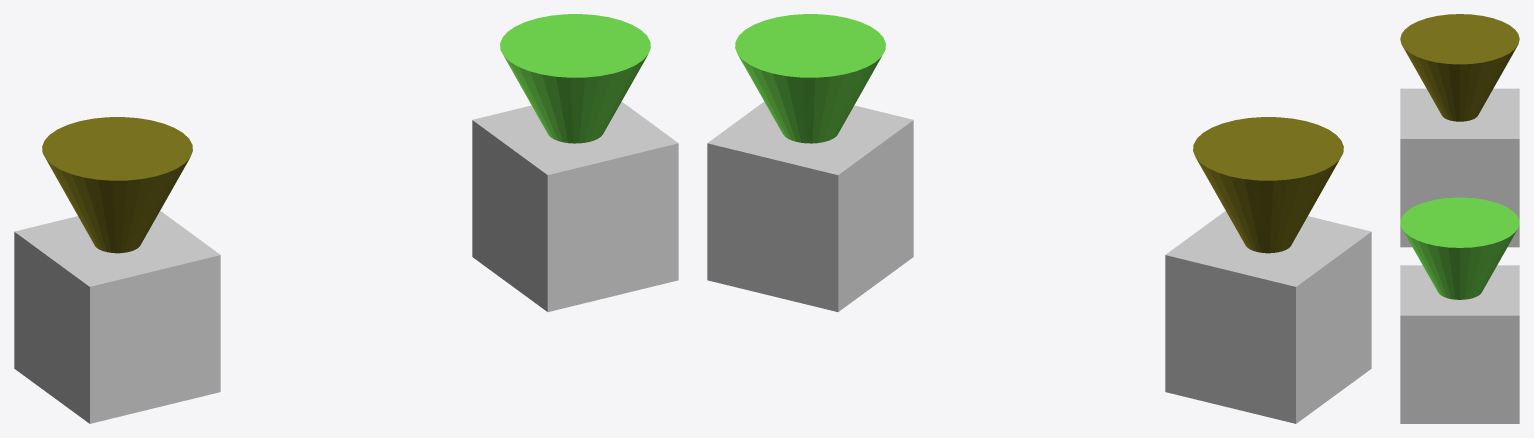
File: two_bulbs.gltf
3 renders of one model, left to right at view 1: azimuth 30°, elevation 25°; view 2: azimuth 150°, elevation 25°; view 3: azimuth 270°, elevation 25°, orthographic. The views are drawn at different scales.
Visible parts, largest first — view 1: Cube, Cube.001, Office, Kitchen; view 2: Cube, Cube.001, Office, Kitchen; view 3: Cube.001, Cube, Office, Kitchen.
Boxes of the visible parts, x1,y1,x2,y2 form: Cube: (14, 211, 220, 423); Cube.001: (472, 101, 678, 311); Office: (42, 117, 192, 253); Kitchen: (500, 14, 650, 143); Cube: (1165, 211, 1371, 423); Cube.001: (707, 101, 913, 311); Office: (1193, 117, 1343, 253); Kitchen: (735, 14, 885, 143); Cube.001: (1400, 265, 1519, 423); Cube: (1400, 88, 1519, 247); Office: (1400, 14, 1519, 121); Kitchen: (1400, 197, 1519, 299).
Bounding box in the file's own units: 8.99 × 3.38 × 2.
